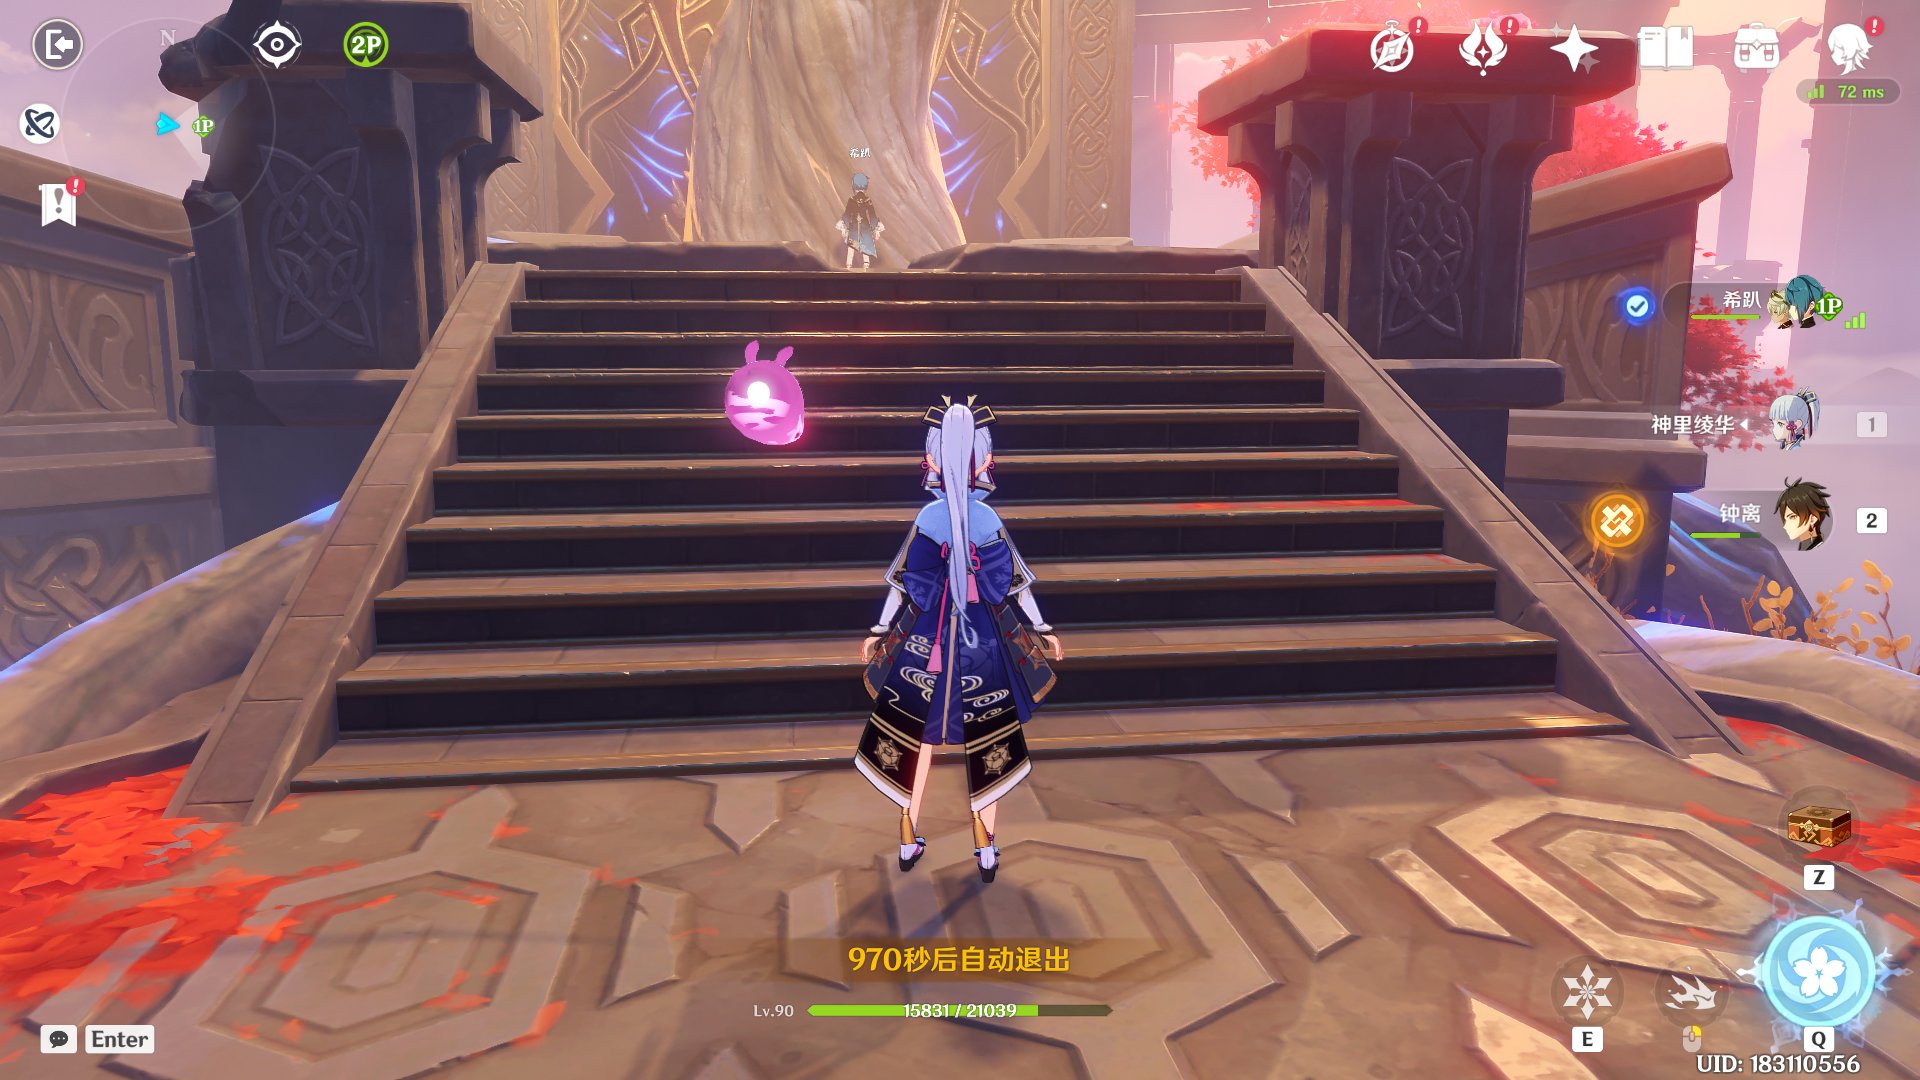character: (829, 382, 1095, 907), (825, 162, 907, 277)
